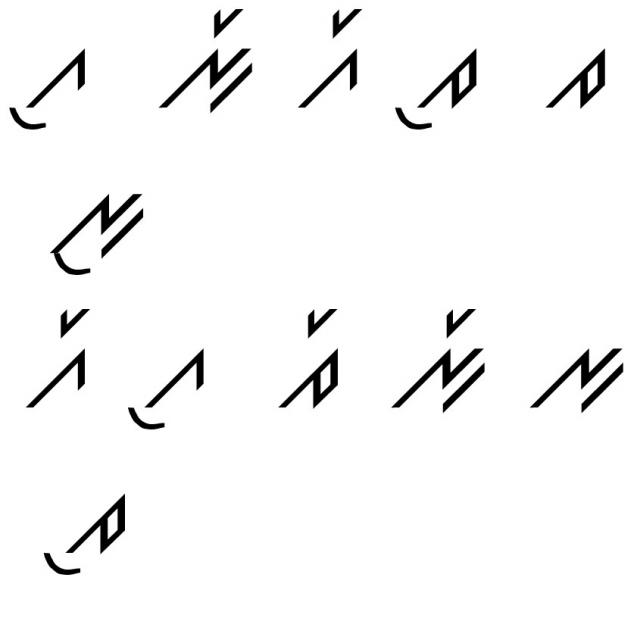gar: (20, 295, 94, 412), (292, 7, 372, 108)
gaw: (119, 335, 214, 433), (3, 39, 89, 144)
nga: (524, 331, 626, 425)
ngar: (384, 299, 489, 426), (149, 7, 259, 119)
ngaw: (39, 164, 150, 279)
ta: (534, 37, 614, 115)
tar: (267, 302, 346, 418)
taw: (27, 482, 139, 587), (397, 47, 484, 140)
